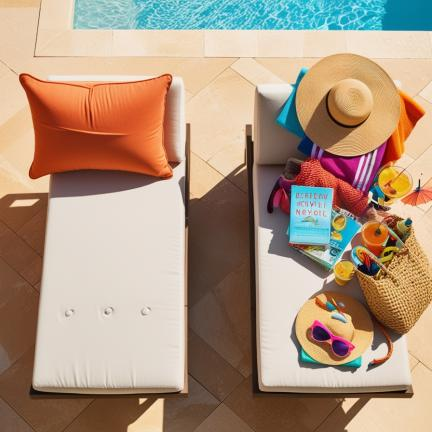empty chair: (19, 73, 188, 394)
occupied chair: (246, 54, 432, 396)
